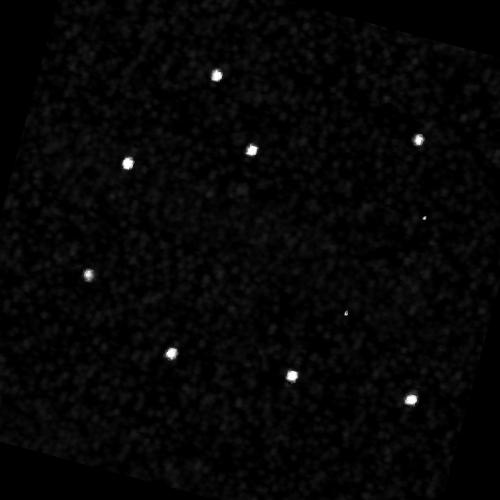ship: (164, 346, 178, 363), (284, 368, 299, 383), (210, 68, 223, 83), (245, 144, 259, 157), (412, 133, 425, 147), (404, 393, 418, 406), (122, 156, 134, 171), (82, 267, 94, 282)
